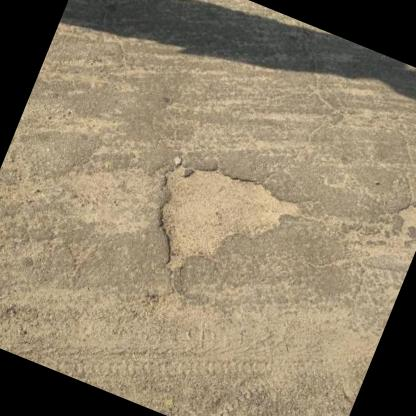pothole: (126, 143, 309, 309), (390, 195, 416, 235)
